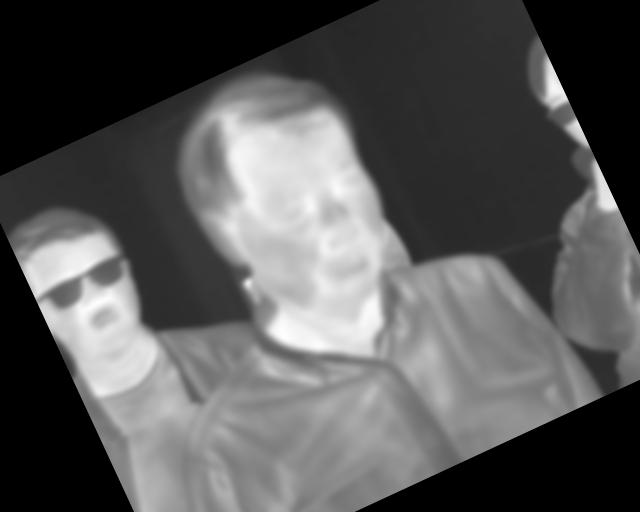face: (148, 41, 427, 359), (1, 181, 167, 376)
